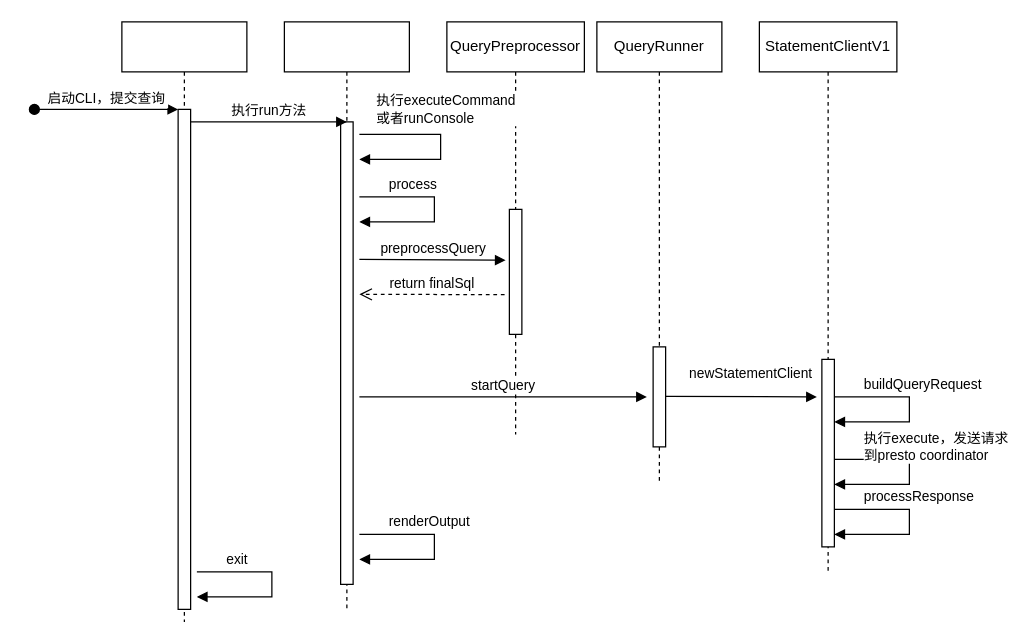
This 1031x644 diagram has some shape labels left out. Here are the shapes that lost their labels. From the top down, the box of each, then its label:
(121, 21, 247, 622): Presto
(283, 21, 409, 609): Console
